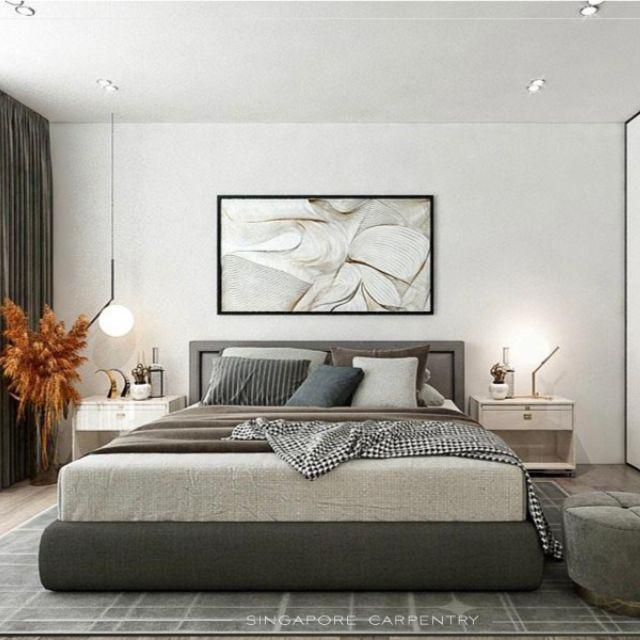bed: (44, 412, 542, 585)
lamp: (499, 324, 564, 405), (90, 284, 139, 346)
pillow: (210, 342, 300, 404), (347, 344, 429, 409), (290, 369, 361, 409)
sofa: (558, 491, 640, 607)
table: (474, 401, 581, 463), (76, 396, 177, 457)
